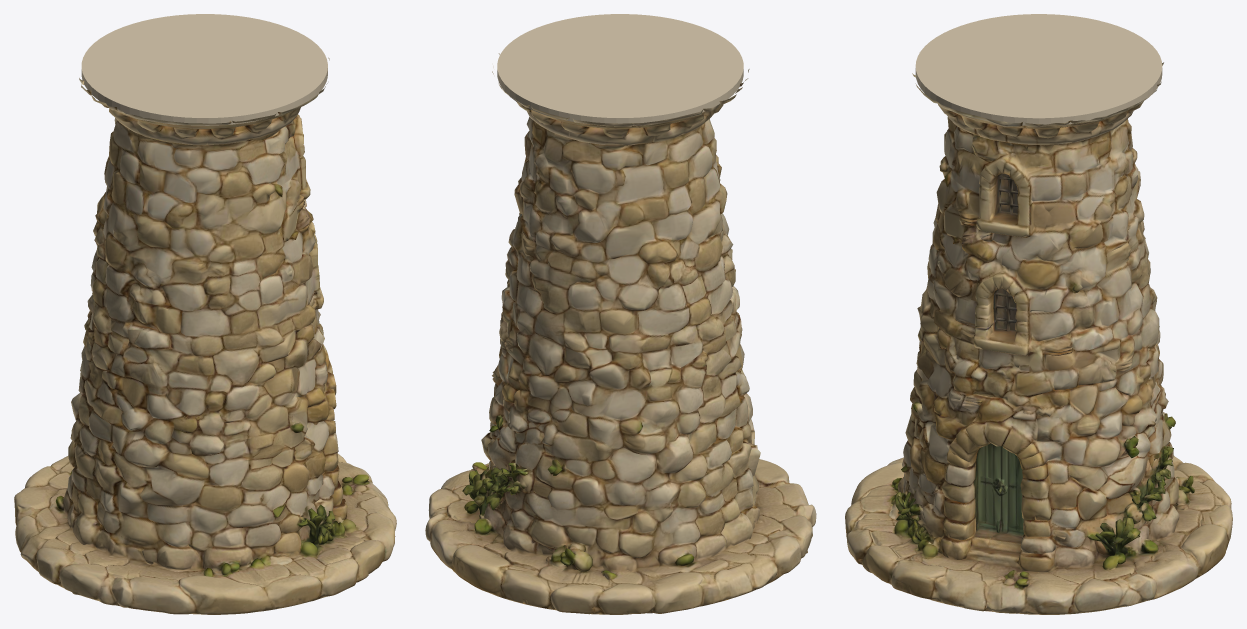
File: lighthouse.glb
3 renders of one model, left to right at view 1: azimuth 30°, elevation 25°; view 2: azimuth 150°, elevation 25°; view 3: azimuth 270°, elevation 25°, orthographic.
Parts seen in each view (by area): view 1: tripo_node_c2ff20f4-b427-454e-8cbb-f09f0220ae36, Lantern mounting deck; view 2: tripo_node_c2ff20f4-b427-454e-8cbb-f09f0220ae36, Lantern mounting deck; view 3: tripo_node_c2ff20f4-b427-454e-8cbb-f09f0220ae36, Lantern mounting deck.
Part boxes in pixels (left/top/right/bottom): tripo_node_c2ff20f4-b427-454e-8cbb-f09f0220ae36: left=14, top=57, right=396, bottom=614; Lantern mounting deck: left=81, top=14, right=327, bottom=125; tripo_node_c2ff20f4-b427-454e-8cbb-f09f0220ae36: left=425, top=53, right=816, bottom=614; Lantern mounting deck: left=497, top=14, right=743, bottom=125; tripo_node_c2ff20f4-b427-454e-8cbb-f09f0220ae36: left=845, top=52, right=1232, bottom=614; Lantern mounting deck: left=915, top=14, right=1162, bottom=125.
Size of the model in its own units: 0.5485 by 0.7299 by 0.5469.
Materials: 2 (1 with a texture image).
